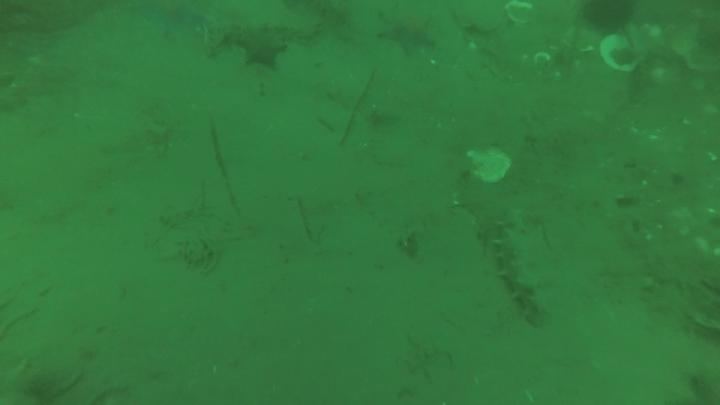echinus: (586, 1, 632, 32)
holothurian: (496, 207, 551, 330)
scallop: (468, 144, 515, 183)
starfish: (384, 14, 435, 55), (240, 30, 287, 69)
